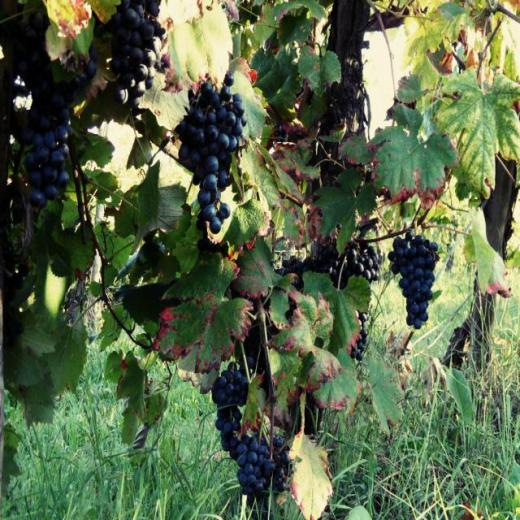Orange: (272, 225, 379, 359), (211, 360, 294, 496), (176, 74, 246, 231), (26, 59, 96, 205), (97, 0, 164, 112), (388, 227, 438, 330), (279, 134, 285, 141), (280, 125, 284, 133), (272, 142, 276, 149)
